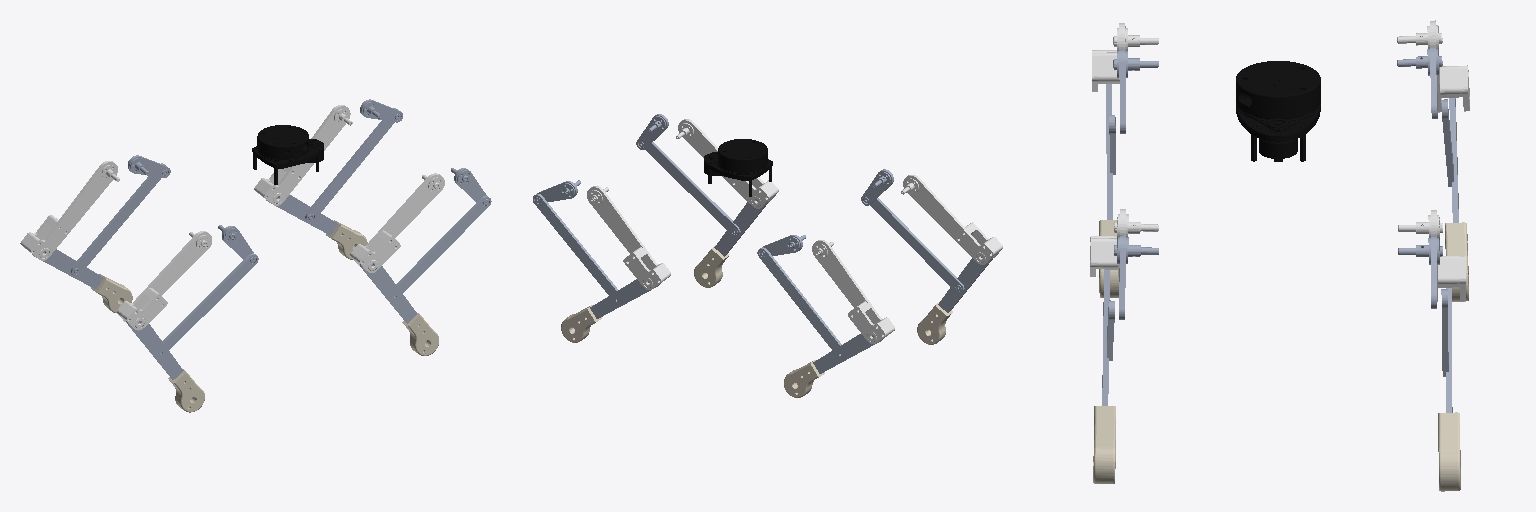
robot.urdf — export5_URDF:
<?xml version="1.0" encoding="utf-8"?>
<!-- This URDF was automatically created by SolidWorks to URDF Exporter! Originally created by Stephen Brawner ([email redacted]) 
     Commit Version: 1.6.0-4-g7f85cfe  Build Version: 1.6.7995.38578
     For more information, please see http://wiki.ros.org/sw_urdf_exporter -->
<robot
  name="export5_URDF">
  <link
    name="base_link">
    <inertial>
      <origin
        xyz="0.00247901953772472 -7.72684605193641E-06 -0.0100192436380275"
        rpy="0 0 0" />
      <mass
        value="1.38302095239097" />
      <inertia
        ixx="0.00172933115832834"
        ixy="-9.10846177365511E-09"
        ixz="7.65352924875858E-16"
        iyy="0.00128903116695102"
        iyz="-1.46644968679531E-16"
        izz="0.00281036572892894" />
    </inertial>
    <visual>
      <origin
        xyz="0 0 0"
        rpy="0 0 0" />
      <geometry>
        <mesh
          filename="package://export5_URDF/meshes/base_link.STL" />
      </geometry>
      <material
        name="">
        <color
          rgba="0.666666666666667 0.698039215686274 0.768627450980392 1" />
      </material>
    </visual>
    <collision>
      <origin
        xyz="0 0 0"
        rpy="0 0 0" />
      <geometry>
        <mesh
          filename="package://export5_URDF/meshes/base_link.STL" />
      </geometry>
    </collision>
  </link>
  <link
    name="lidar_link">
    <inertial>
      <origin
        xyz="0.00577544245185513 0.000608180456644292 -0.0195616906884153"
        rpy="0 0 0" />
      <mass
        value="0.142994095653187" />
      <inertia
        ixx="4.62767161181515E-05"
        ixy="-8.53572518984279E-07"
        ixz="3.62184026396535E-06"
        iyy="7.34746440088867E-05"
        iyz="-2.04304178805651E-07"
        izz="0.000107960183716792" />
    </inertial>
    <visual>
      <origin
        xyz="0 0 0"
        rpy="0 0 0" />
      <geometry>
        <mesh
          filename="package://export5_URDF/meshes/lidar_link.STL" />
      </geometry>
      <material
        name="">
        <color
          rgba="0.101960784313725 0.101960784313725 0.101960784313725 1" />
      </material>
    </visual>
    <collision>
      <origin
        xyz="0 0 0"
        rpy="0 0 0" />
      <geometry>
        <mesh
          filename="package://export5_URDF/meshes/lidar_link.STL" />
      </geometry>
    </collision>
  </link>
  <joint
    name="lidar_joint"
    type="fixed">
    <origin
      xyz="-0.0031638 -0.00011308 0.044"
      rpy="0 0 0" />
    <parent
      link="base_link" />
    <child
      link="lidar_link" />
    <axis
      xyz="0 0 0" />
  </joint>
  <link
    name="rf_hip_link">
    <inertial>
      <origin
        xyz="0.0511054670163394 -0.00640917768004473 -0.00656360453138677"
        rpy="0 0 0" />
      <mass
        value="0.300997066732491" />
      <inertia
        ixx="0.00010684588163136"
        ixy="1.08806377383141E-09"
        ixz="8.90083581989902E-09"
        iyy="0.000249480012816438"
        iyz="1.34842317361947E-05"
        izz="0.000243506037107833" />
    </inertial>
    <visual>
      <origin
        xyz="0 0 0"
        rpy="0 0 0" />
      <geometry>
        <mesh
          filename="package://export5_URDF/meshes/rf_hip_link.STL" />
      </geometry>
      <material
        name="">
        <color
          rgba="0.666666666666667 0.698039215686274 0.768627450980392 1" />
      </material>
    </visual>
    <collision>
      <origin
        xyz="0 0 0"
        rpy="0 0 0" />
      <geometry>
        <mesh
          filename="package://export5_URDF/meshes/rf_hip_link.STL" />
      </geometry>
    </collision>
  </link>
  <joint
    name="rf_hip_joint"
    type="revolute">
    <origin
      xyz="0.1325 -0.07989 -0.029298"
      rpy="0 0 0" />
    <parent
      link="base_link" />
    <child
      link="rf_hip_link" />
    <axis
      xyz="-1 0 0" />
    <limit
      lower="-3.14"
      upper="3.14"
      effort="5"
      velocity="10" />
  </joint>
  <link
    name="rf_h_upper_link">
    <inertial>
      <origin
        xyz="-0.0668128326099894 -0.000201076465554229 -0.0492390564779382"
        rpy="0 0 0" />
      <mass
        value="0.108446459752499" />
      <inertia
        ixx="4.55350835364376E-05"
        ixy="-9.11870718885065E-07"
        ixz="-5.53553247981242E-05"
        iyy="0.000129422913083595"
        iyz="-7.2935535177326E-07"
        izz="8.5181340447565E-05" />
    </inertial>
    <visual>
      <origin
        xyz="0 0 0"
        rpy="0 0 0" />
      <geometry>
        <mesh
          filename="package://export5_URDF/meshes/rf_h_upper_link.STL" />
      </geometry>
      <material
        name="">
        <color
          rgba="0.898039215686275 0.898039215686275 0.898039215686275 1" />
      </material>
    </visual>
    <collision>
      <origin
        xyz="0 0 0"
        rpy="0 0 0" />
      <geometry>
        <mesh
          filename="package://export5_URDF/meshes/rf_h_upper_link.STL" />
      </geometry>
    </collision>
  </link>
  <joint
    name="rf_h_upper_joint"
    type="revolute">
    <origin
      xyz="0.027 -0.054174 0.014192"
      rpy="0 0 0" />
    <parent
      link="rf_hip_link" />
    <child
      link="rf_h_upper_link" />
    <axis
      xyz="0 -0.99986 0.016471" />
    <limit
      lower="-3.14"
      upper="3.14"
      effort="5"
      velocity="10" />
  </joint>
  <link
    name="rf_lower_link">
    <inertial>
      <origin
        xyz="0.056017 0.0023415 0.053896"
        rpy="0 0 0" />
      <mass
        value="0.11781" />
      <inertia
        ixx="0.00010723"
        ixy="-1.1757E-07"
        ixz="-7.1377E-06"
        iyy="0.00021298"
        iyz="-1.7538E-06"
        izz="0.00010657" />
    </inertial>
    <visual>
      <origin
        xyz="0 0 0"
        rpy="0 0 0" />
      <geometry>
        <mesh
          filename="package://export5_URDF/meshes/rf_lower_link.STL" />
      </geometry>
      <material
        name="">
        <color
          rgba="0.66667 0.69804 0.76863 1" />
      </material>
    </visual>
    <collision>
      <origin
        xyz="0 0 0"
        rpy="0 0 0" />
      <geometry>
        <mesh
          filename="package://export5_URDF/meshes/rf_lower_link.STL" />
      </geometry>
    </collision>
  </link>
  <joint
    name="rf_lower_joint"
    type="revolute">
    <origin
      xyz="-0.070415 -0.0044887 -0.14499"
      rpy="0 0 0" />
    <parent
      link="rf_h_upper_link" />
    <child
      link="rf_lower_link" />
    <axis
      xyz="0 -0.99986 0.016471" />
    <limit
      lower="-3.14"
      upper="3.14"
      effort="5"
      velocity="10" />
  </joint>
  <link
    name="rf_foot_link">
    <inertial>
      <origin
        xyz="-0.0037487 0.000142 0.0086209"
        rpy="0 0 0" />
      <mass
        value="0.038335" />
      <inertia
        ixx="1.0486E-05"
        ixy="4.7236E-08"
        ixz="2.8672E-06"
        iyy="1.4027E-05"
        iyz="-1.3594E-07"
        izz="5.777E-06" />
    </inertial>
    <visual>
      <origin
        xyz="0 0 0"
        rpy="0 0 0" />
      <geometry>
        <mesh
          filename="package://export5_URDF/meshes/rf_foot_link.STL" />
      </geometry>
      <material
        name="">
        <color
          rgba="0.84314 0.81569 0.75294 1" />
      </material>
    </visual>
    <collision>
      <origin
        xyz="0 0 0"
        rpy="0 0 0" />
      <geometry>
        <mesh
          filename="package://export5_URDF/meshes/rf_foot_link.STL" />
      </geometry>
    </collision>
  </link>
  <joint
    name="rf_foot_joint"
    type="fixed">
    <origin
      xyz="0.046334 -0.0041833 -0.077876"
      rpy="0 0 0" />
    <parent
      link="rf_lower_link" />
    <child
      link="rf_foot_link" />
    <axis
      xyz="0 0 0" />
  </joint>
  <link
    name="rh_hip_link">
    <inertial>
      <origin
        xyz="-0.05110672759095 -0.00625664363822043 -0.00670914973811432"
        rpy="0 0 0" />
      <mass
        value="0.300997066909679" />
      <inertia
        ixx="0.000106845881604468"
        ixy="8.75145779679015E-10"
        ixz="9.63300331451179E-09"
        iyy="0.00024885960696754"
        iyz="1.36117389788136E-05"
        izz="0.000244126442943632" />
    </inertial>
    <visual>
      <origin
        xyz="0 0 0"
        rpy="0 0 0" />
      <geometry>
        <mesh
          filename="package://export5_URDF/meshes/rh_hip_link.STL" />
      </geometry>
      <material
        name="">
        <color
          rgba="0.266666666666667 0.266666666666667 0.266666666666667 1" />
      </material>
    </visual>
    <collision>
      <origin
        xyz="0 0 0"
        rpy="0 0 0" />
      <geometry>
        <mesh
          filename="package://export5_URDF/meshes/rh_hip_link.STL" />
      </geometry>
    </collision>
  </link>
  <joint
    name="rh_hip_joint"
    type="revolute">
    <origin
      xyz="-0.1325 -0.07989 -0.029298"
      rpy="0 0 0" />
    <parent
      link="base_link" />
    <child
      link="rh_hip_link" />
    <axis
      xyz="-1 0 0" />
    <limit
      lower="-3.14"
      upper="3.14"
      effort="5"
      velocity="10" />
  </joint>
  <link
    name="rh_h_upper_link">
    <inertial>
      <origin
        xyz="-0.0668128321368547 0.000930459071025569 -0.0492306746282527"
        rpy="0 0 0" />
      <mass
        value="0.108446460508965" />
      <inertia
        ixx="4.55350835382334E-05"
        ixy="3.6040038273224E-07"
        ixz="-5.53616618595437E-05"
        iyy="0.000129433062665089"
        iyz="2.87789798758398E-07"
        izz="8.51711908871302E-05" />
    </inertial>
    <visual>
      <origin
        xyz="0 0 0"
        rpy="0 0 0" />
      <geometry>
        <mesh
          filename="package://export5_URDF/meshes/rh_h_upper_link.STL" />
      </geometry>
      <material
        name="">
        <color
          rgba="0.898039215686275 0.898039215686275 0.898039215686275 1" />
      </material>
    </visual>
    <collision>
      <origin
        xyz="0 0 0"
        rpy="0 0 0" />
      <geometry>
        <mesh
          filename="package://export5_URDF/meshes/rh_h_upper_link.STL" />
      </geometry>
    </collision>
  </link>
  <joint
    name="rh_h_upper_joint"
    type="revolute">
    <origin
      xyz="-0.072 -0.054485 0.012943"
      rpy="0 0 0" />
    <parent
      link="rh_hip_link" />
    <child
      link="rh_h_upper_link" />
    <axis
      xyz="0 -0.99998 -0.0065096" />
    <limit
      lower="-3.14"
      upper="3.14"
      effort="5"
      velocity="10" />
  </joint>
  <link
    name="rh_lower_link">
    <inertial>
      <origin
        xyz="0.0560170206860614 0.0011023555920589 0.0539357041301582"
        rpy="0 0 0" />
      <mass
        value="0.117810135921722" />
      <inertia
        ixx="0.000107230602962527"
        ixy="4.64807153561257E-08"
        ixz="-7.13851571083036E-06"
        iyy="0.000213006933683945"
        iyz="6.9269327687283E-07"
        izz="0.00010654795619169" />
    </inertial>
    <visual>
      <origin
        xyz="0 0 0"
        rpy="0 0 0" />
      <geometry>
        <mesh
          filename="package://export5_URDF/meshes/rh_lower_link.STL" />
      </geometry>
      <material
        name="">
        <color
          rgba="0.666666666666667 0.698039215686274 0.768627450980392 1" />
      </material>
    </visual>
    <collision>
      <origin
        xyz="0 0 0"
        rpy="0 0 0" />
      <geometry>
        <mesh
          filename="package://export5_URDF/meshes/rh_lower_link.STL" />
      </geometry>
    </collision>
  </link>
  <joint
    name="rh_lower_joint"
    type="revolute">
    <origin
      xyz="-0.070415 -0.0011558 -0.14505"
      rpy="0 0 0" />
    <parent
      link="rh_h_upper_link" />
    <child
      link="rh_lower_link" />
    <axis
      xyz="0 0.99998 0.0065096" />
    <limit
      lower="-3.14"
      upper="3.14"
      effort="5"
      velocity="10" />
  </joint>
  <link
    name="rh_foot_link">
    <inertial>
      <origin
        xyz="-0.00374869468568095 -5.61344255122775E-05 0.00862184018063239"
        rpy="0 0 0" />
      <mass
        value="0.0383346011874611" />
      <inertia
        ixx="1.04864883148301E-05"
        ixy="-1.86624067397946E-08"
        ixz="2.86749584033282E-06"
        iyy="1.40291004399198E-05"
        iyz="5.37409927361689E-08"
        izz="5.77509132612842E-06" />
    </inertial>
    <visual>
      <origin
        xyz="0 0 0"
        rpy="0 0 0" />
      <geometry>
        <mesh
          filename="package://export5_URDF/meshes/rh_foot_link.STL" />
      </geometry>
      <material
        name="">
        <color
          rgba="0.843137254901961 0.815686274509804 0.752941176470588 1" />
      </material>
    </visual>
    <collision>
      <origin
        xyz="0 0 0"
        rpy="0 0 0" />
      <geometry>
        <mesh
          filename="package://export5_URDF/meshes/rh_foot_link.STL" />
      </geometry>
    </collision>
  </link>
  <joint
    name="rh_foot_joint"
    type="fixed">
    <origin
      xyz="0.046334 -0.0023926 -0.077951"
      rpy="0 0 0" />
    <parent
      link="rh_lower_link" />
    <child
      link="rh_foot_link" />
    <axis
      xyz="0 0 0" />
  </joint>
  <link
    name="lf_hip_link">
    <inertial>
      <origin
        xyz="0.051135385907403 0.00634416180976899 -0.00662645607036255"
        rpy="0 0 0" />
      <mass
        value="0.300997066785474" />
      <inertia
        ixx="0.000106845881608904"
        ixy="9.9684339023789E-10"
        ixz="-9.62096426554272E-09"
        iyy="0.00024921659567892"
        iyz="-1.35417623837856E-05"
        izz="0.000243769454228271" />
    </inertial>
    <visual>
      <origin
        xyz="0 0 0"
        rpy="0 0 0" />
      <geometry>
        <mesh
          filename="package://export5_URDF/meshes/lf_hip_link.STL" />
      </geometry>
      <material
        name="">
        <color
          rgba="0.894117647058823 0.913725490196078 0.929411764705882 1" />
      </material>
    </visual>
    <collision>
      <origin
        xyz="0 0 0"
        rpy="0 0 0" />
      <geometry>
        <mesh
          filename="package://export5_URDF/meshes/lf_hip_link.STL" />
      </geometry>
    </collision>
  </link>
  <joint
    name="lf_hip_joint"
    type="revolute">
    <origin
      xyz="0.1325 0.07989 -0.029298"
      rpy="0 0 0" />
    <parent
      link="base_link" />
    <child
      link="lf_hip_link" />
    <axis
      xyz="1 0 0" />
    <limit
      lower="-3.14"
      upper="3.14"
      effort="5"
      velocity="10" />
  </joint>
  <link
    name="lf_h_upper_link">
    <inertial>
      <origin
        xyz="-0.0589927944433671 -0.000223769982119038 -0.0583805574455977"
        rpy="0 0 0" />
      <mass
        value="0.108446460117747" />
      <inertia
        ixx="6.22033266932144E-05"
        ixy="3.88448082434307E-07"
        ixz="-5.87170529724645E-05"
        iyy="0.000129432262514428"
        iyz="4.03439937117398E-07"
        izz="6.85037478736184E-05" />
    </inertial>
    <visual>
      <origin
        xyz="0 0 0"
        rpy="0 0 0" />
      <geometry>
        <mesh
          filename="package://export5_URDF/meshes/lf_h_upper_link.STL" />
      </geometry>
      <material
        name="">
        <color
          rgba="0.898039215686275 0.898039215686275 0.898039215686275 1" />
      </material>
    </visual>
    <collision>
      <origin
        xyz="0 0 0"
        rpy="0 0 0" />
      <geometry>
        <mesh
          filename="package://export5_URDF/meshes/lf_h_upper_link.STL" />
      </geometry>
    </collision>
  </link>
  <joint
    name="lf_h_upper_joint"
    type="revolute">
    <origin
      xyz="0.027 0.054311 0.013657"
      rpy="0 0 0" />
    <parent
      link="lf_hip_link" />
    <child
      link="lf_h_upper_link" />
    <axis
      xyz="0 0.99998 0.0066153" />
    <limit
      lower="-3.14"
      upper="3.14"
      effort="5"
      velocity="10" />
  </joint>
  <link
    name="lf_lower_link">
    <inertial>
      <origin
        xyz="0.04656831523749 -0.0018373803077254 0.0580337557081891"
        rpy="0 0 0" />
      <mass
        value="0.117810135956518" />
      <inertia
        ixx="9.11042914626449E-05"
        ixy="5.49389299838499E-08"
        ixz="-8.30285013750504E-06"
        iyy="0.000213007482434997"
        iyz="5.97974353460945E-07"
        izz="0.000122673718941518" />
    </inertial>
    <visual>
      <origin
        xyz="0 0 0"
        rpy="0 0 0" />
      <geometry>
        <mesh
          filename="package://export5_URDF/meshes/lf_lower_link.STL" />
      </geometry>
      <material
        name="">
        <color
          rgba="0.666666666666667 0.698039215686274 0.768627450980392 1" />
      </material>
    </visual>
    <collision>
      <origin
        xyz="0 0 0"
        rpy="0 0 0" />
      <geometry>
        <mesh
          filename="package://export5_URDF/meshes/lf_lower_link.STL" />
      </geometry>
    </collision>
  </link>
  <joint
    name="lf_lower_joint"
    type="revolute">
    <origin
      xyz="-0.040592 0.0030586 -0.1449"
      rpy="0 0 0" />
    <parent
      link="lf_h_upper_link" />
    <child
      link="lf_lower_link" />
    <axis
      xyz="0 -0.99998 -0.0066153" />
    <limit
      lower="-3.14"
      upper="3.14"
      effort="5"
      velocity="10" />
  </joint>
  <link
    name="lf_foot_link">
    <inertial>
      <origin
        xyz="-0.00620125999523695 -4.67563553129546E-05 0.00706641170175271"
        rpy="0 0 0" />
      <mass
        value="0.0383346003330871" />
      <inertia
        ixx="8.38077902670286E-06"
        ixy="-2.44931975928254E-08"
        ixz="3.70267977694991E-06"
        iyy="1.40291809776997E-05"
        iyz="4.06849555311777E-08"
        izz="7.88071962868401E-06" />
    </inertial>
    <visual>
      <origin
        xyz="0 0 0"
        rpy="0 0 0" />
      <geometry>
        <mesh
          filename="package://export5_URDF/meshes/lf_foot_link.STL" />
      </geometry>
      <material
        name="">
        <color
          rgba="0.843137254901961 0.815686274509804 0.752941176470588 1" />
      </material>
    </visual>
    <collision>
      <origin
        xyz="0 0 0"
        rpy="0 0 0" />
      <geometry>
        <mesh
          filename="package://export5_URDF/meshes/lf_foot_link.STL" />
      </geometry>
    </collision>
  </link>
  <joint
    name="lf_foot_joint"
    type="fixed">
    <origin
      xyz="0.067908 0.0032973 -0.060054"
      rpy="0 0 0" />
    <parent
      link="lf_lower_link" />
    <child
      link="lf_foot_link" />
    <axis
      xyz="0 0 0" />
  </joint>
  <link
    name="lh_hip_link">
    <inertial>
      <origin
        xyz="-0.0510768085973683 0.00657150618104135 -0.00640107920474792"
        rpy="0 0 0" />
      <mass
        value="0.300997071527801" />
      <inertia
        ixx="0.000106845881773414"
        ixy="1.31947016759233E-09"
        ixz="-8.87101127534872E-09"
        iyy="0.000250153711398057"
        iyz="-1.33156144725748E-05"
        izz="0.000242832338677794" />
    </inertial>
    <visual>
      <origin
        xyz="0 0 0"
        rpy="0 0 0" />
      <geometry>
        <mesh
          filename="package://export5_URDF/meshes/lh_hip_link.STL" />
      </geometry>
      <material
        name="">
        <color
          rgba="0.898039215686275 0.898039215686275 0.898039215686275 1" />
      </material>
    </visual>
    <collision>
      <origin
        xyz="0 0 0"
        rpy="0 0 0" />
      <geometry>
        <mesh
          filename="package://export5_URDF/meshes/lh_hip_link.STL" />
      </geometry>
    </collision>
  </link>
  <joint
    name="lh_hip_joint"
    type="revolute">
    <origin
      xyz="-0.1325 0.07989 -0.029298"
      rpy="0 0 0" />
    <parent
      link="base_link" />
    <child
      link="lh_hip_link" />
    <axis
      xyz="-1 0 0" />
    <limit
      lower="-3.14"
      upper="3.14"
      effort="5"
      velocity="10" />
  </joint>
  <link
    name="lh_h_upper_link">
    <inertial>
      <origin
        xyz="-0.058992795180726 0.00181321537534801 -0.0583528224949297"
        rpy="0 0 0" />
      <mass
        value="0.108446458753431" />
      <inertia
        ixx="6.22033266883486E-05"
        ixy="2.43680055484232E-06"
        ixz="-5.86677526732737E-05"
        iyy="0.000129329962807109"
        iyz="2.52690861222676E-06"
        izz="6.86060475531218E-05" />
    </inertial>
    <visual>
      <origin
        xyz="0 0 0"
        rpy="0 0 0" />
      <geometry>
        <mesh
          filename="package://export5_URDF/meshes/lh_h_upper_link.STL" />
      </geometry>
      <material
        name="">
        <color
          rgba="0.898039215686275 0.898039215686275 0.898039215686275 1" />
      </material>
    </visual>
    <collision>
      <origin
        xyz="0 0 0"
        rpy="0 0 0" />
      <geometry>
        <mesh
          filename="package://export5_URDF/meshes/lh_h_upper_link.STL" />
      </geometry>
    </collision>
  </link>
  <joint
    name="lh_h_upper_joint"
    type="revolute">
    <origin
      xyz="-0.072 0.053801 0.015544"
      rpy="0 0 0" />
    <parent
      link="lh_hip_link" />
    <child
      link="lh_h_upper_link" />
    <axis
      xyz="0 0.99914 0.0415" />
    <limit
      lower="-3.14"
      upper="3.14"
      effort="5"
      velocity="10" />
  </joint>
  <link
    name="lh_lower_link">
    <inertial>
      <origin
        xyz="0.0465683155602796 -0.00386101113616596 0.0579343201592794"
        rpy="0 0 0" />
      <mass
        value="0.11781013696499" />
      <inertia
        ixx="9.11042914666682E-05"
        ixy="3.44584982645921E-07"
        ixz="-8.29587849784415E-06"
        iyy="0.000212855823065441"
        iyz="3.74626943283949E-06"
        izz="0.000122825378322347" />
    </inertial>
    <visual>
      <origin
        xyz="0 0 0"
        rpy="0 0 0" />
      <geometry>
        <mesh
          filename="package://export5_URDF/meshes/lh_lower_link.STL" />
      </geometry>
      <material
        name="">
        <color
          rgba="0.666666666666667 0.698039215686274 0.768627450980392 1" />
      </material>
    </visual>
    <collision>
      <origin
        xyz="0 0 0"
        rpy="0 0 0" />
      <geometry>
        <mesh
          filename="package://export5_URDF/meshes/lh_lower_link.STL" />
      </geometry>
    </collision>
  </link>
  <joint
    name="lh_lower_joint"
    type="revolute">
    <origin
      xyz="-0.040592 0.0081123 -0.14471"
      rpy="0 0 0" />
    <parent
      link="lh_h_upper_link" />
    <child
      link="lh_lower_link" />
    <axis
      xyz="0 -0.99914 -0.0415" />
    <limit
      lower="-3.14"
      upper="3.14"
      effort="5"
      velocity="10" />
  </joint>
  <link
    name="lh_foot_link">
    <inertial>
      <origin
        xyz="-0.00620125999919491 -0.000293269095868104 0.00706047828477652"
        rpy="0 0 0" />
      <mass
        value="0.0383346003235047" />
      <inertia
        ixx="8.3807790193781E-06"
        ixy="-1.53661693249376E-07"
        ixz="3.69957099263319E-06"
        iyy="1.40188595348517E-05"
        iyz="2.54969993924934E-07"
        izz="7.89104107147032E-06" />
    </inertial>
    <visual>
      <origin
        xyz="0 0 0"
        rpy="0 0 0" />
      <geometry>
        <mesh
          filename="package://export5_URDF/meshes/lh_foot_link.STL" />
      </geometry>
      <material
        name="">
        <color
          rgba="0.843137254901961 0.815686274509804 0.752941176470588 1" />
      </material>
    </visual>
    <collision>
      <origin
        xyz="0 0 0"
        rpy="0 0 0" />
      <geometry>
        <mesh
          filename="package://export5_URDF/meshes/lh_foot_link.STL" />
      </geometry>
    </collision>
  </link>
  <joint
    name="lh_foot_joint"
    type="fixed">
    <origin
      xyz="0.067908 0.0053906 -0.059903"
      rpy="0 0 0" />
    <parent
      link="lh_lower_link" />
    <child
      link="lh_foot_link" />
    <axis
      xyz="0 0 0" />
  </joint>
</robot>

--- What the picture shows (computed from the rendered views, not written in the file) ---
Views: 3 orthographic renders of the robot side by side, from view 1: azimuth 30°, elevation 25°; view 2: azimuth 150°, elevation 25°; view 3: azimuth 270°, elevation 25°.
Robot: export5_URDF — 18 links, 17 joints (12 revolute, 5 fixed); root link base_link; default pose: all joints at 0.
Visible links, largest first — view 1: rf_lower_link, rh_lower_link, lf_lower_link, lh_lower_link, lh_h_upper_link, rh_h_upper_link, rf_h_upper_link, lidar_link, lf_h_upper_link, rf_foot_link, rh_foot_link, lh_foot_link (+1 smaller); view 2: lh_lower_link, lf_lower_link, rh_lower_link, rf_lower_link, lh_h_upper_link, lf_h_upper_link, rh_h_upper_link, lidar_link, rf_h_upper_link, rh_foot_link, rf_foot_link, lh_foot_link (+1 smaller); view 3: lidar_link, lh_lower_link, rf_lower_link, rh_lower_link, lf_lower_link, lh_h_upper_link, rf_foot_link, lf_foot_link, lf_h_upper_link, rf_h_upper_link, rh_h_upper_link, lh_foot_link (+1 smaller).
Boxes of the visible links, x1,y1,x2,y2 form: rf_lower_link: (360, 168, 491, 323); rh_lower_link: (126, 225, 258, 379); lf_lower_link: (266, 99, 402, 235); lh_lower_link: (32, 155, 170, 288); lh_h_upper_link: (20, 161, 119, 260); rh_h_upper_link: (117, 231, 211, 330); rf_h_upper_link: (350, 173, 444, 272); lidar_link: (252, 125, 323, 184); lf_h_upper_link: (254, 105, 352, 205); rf_foot_link: (402, 313, 438, 355); rh_foot_link: (168, 369, 204, 412); lh_foot_link: (91, 274, 132, 312); lh_lower_link: (757, 235, 884, 373); lf_lower_link: (533, 180, 660, 318); rh_lower_link: (861, 169, 993, 312); rf_lower_link: (636, 114, 769, 256); lh_h_upper_link: (812, 240, 894, 343); lf_h_upper_link: (587, 186, 670, 289); rh_h_upper_link: (901, 175, 1002, 264); lidar_link: (704, 139, 772, 196); rf_h_upper_link: (676, 119, 778, 208); rh_foot_link: (917, 303, 952, 344); rf_foot_link: (694, 245, 728, 287); lh_foot_link: (784, 360, 824, 397); lidar_link: (1236, 61, 1320, 161); lh_lower_link: (1397, 47, 1458, 222); rf_lower_link: (1102, 235, 1158, 405); rh_lower_link: (1106, 49, 1158, 219); lf_lower_link: (1398, 236, 1452, 412); lh_h_upper_link: (1397, 20, 1469, 112); rf_foot_link: (1093, 406, 1115, 483); lf_foot_link: (1438, 412, 1460, 491); lf_h_upper_link: (1398, 210, 1465, 301); rf_h_upper_link: (1090, 209, 1158, 277); rh_h_upper_link: (1092, 23, 1158, 91); lh_foot_link: (1445, 222, 1468, 301).
Bounding box of the posed robot: 0.5934 × 0.3121 × 0.3024 m (x, y, z).
13 mesh visuals loaded from 18 distinct referenced files (13 binary STL); not drawn: 5 (reference not matched to a file when rendering).
